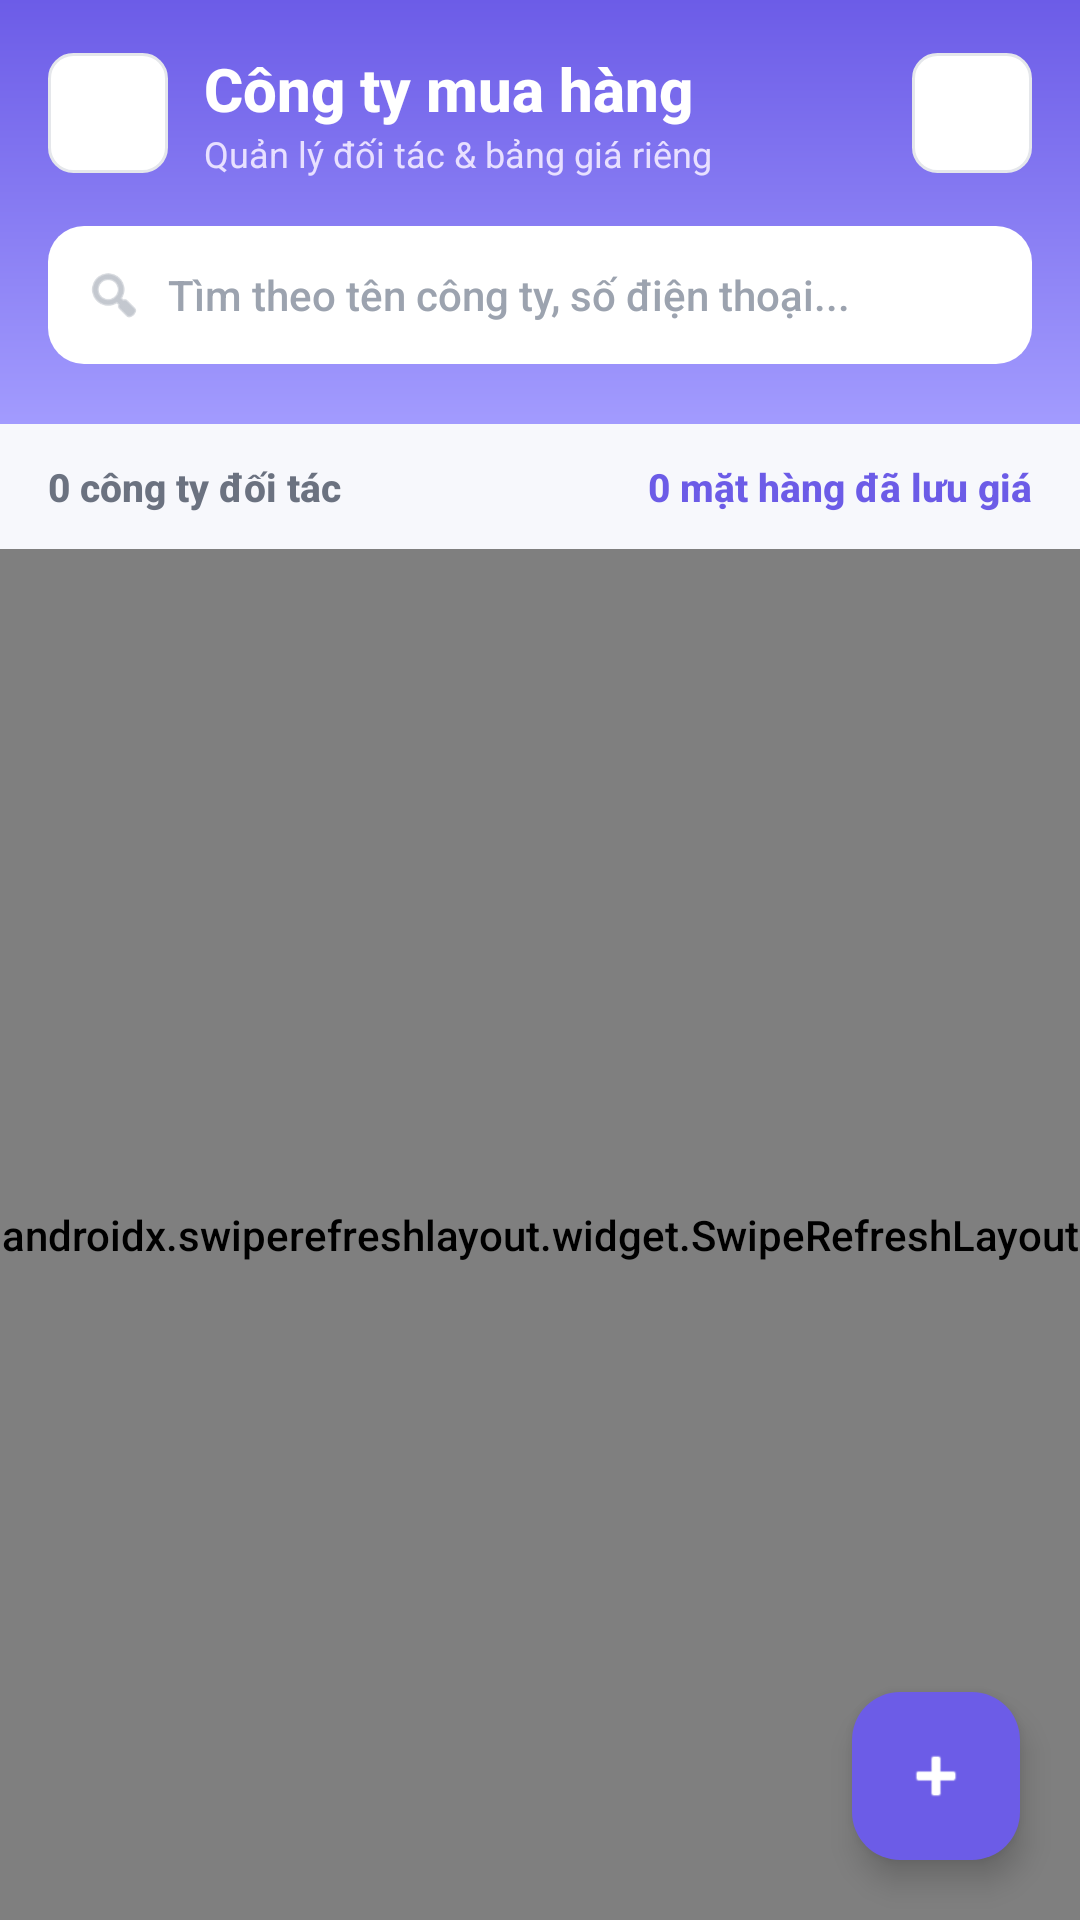

Where icons sit on this 1080px×1920px app screen, as (x1, y1, x2, y2):
search: (92, 273, 136, 317)
Thêm công ty mới: (852, 1692, 1020, 1860)
